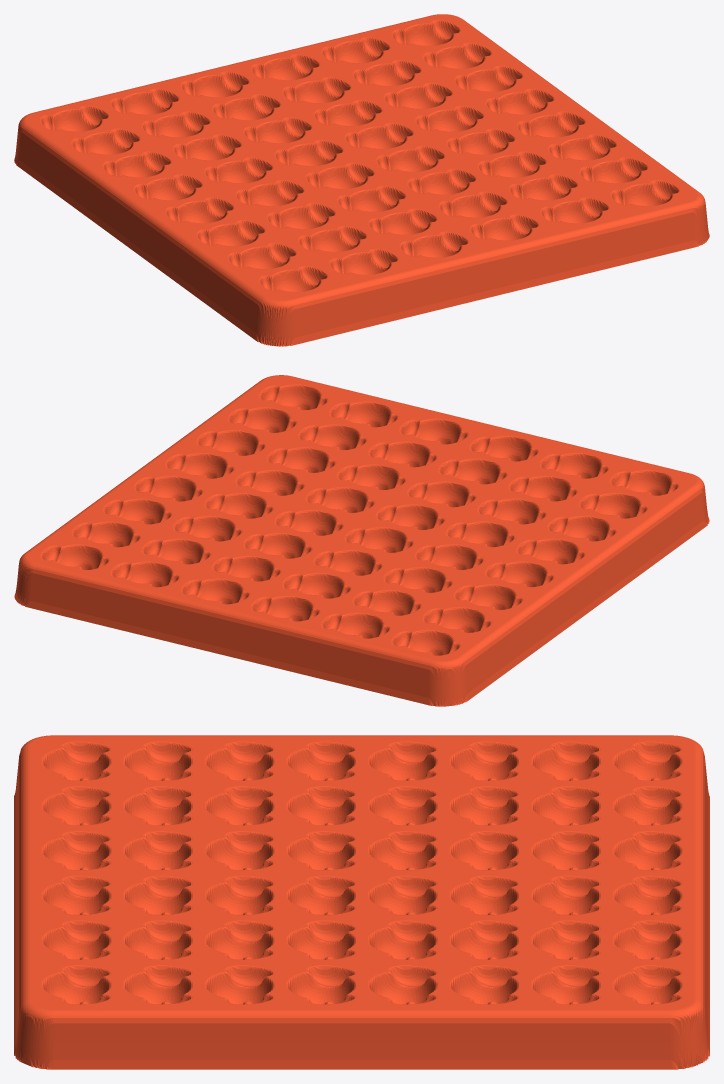
File: mold.glb
3 renders of one model, top to bottom at view 1: azimuth 30°, elevation 25°; view 2: azimuth 150°, elevation 25°; view 3: azimuth 270°, elevation 25°, orthographic. The views are drawn at different scales.
Parts seen in each view (by area): view 1: geometry_0; view 2: geometry_0; view 3: geometry_0.
Boxes of the visible parts, x1,y1,x2,y2 form: geometry_0: (14, 14, 709, 346); geometry_0: (14, 375, 709, 706); geometry_0: (14, 735, 709, 1069).
Size of the model in its own units: 0.1575 by 0.0136 by 0.1615.
